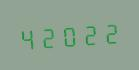four: (18, 23, 37, 52)
two: (78, 19, 97, 48), (38, 22, 57, 50), (98, 18, 117, 46)
zero: (58, 20, 77, 49)
